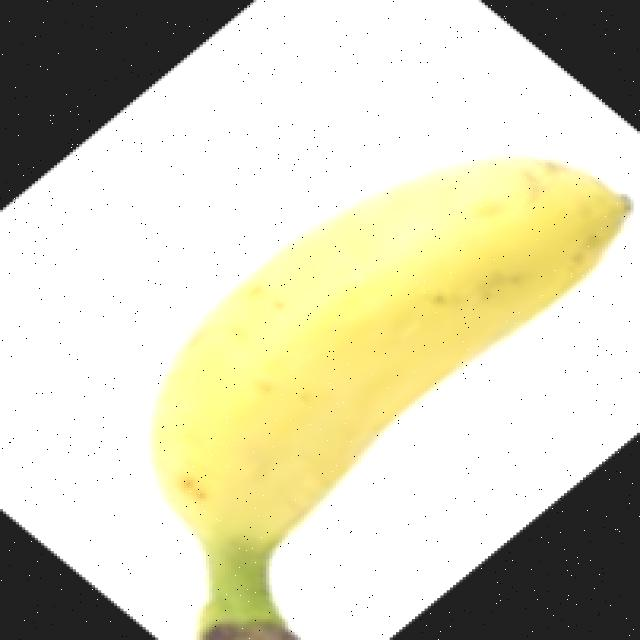god quality banana: (152, 157, 630, 639)
